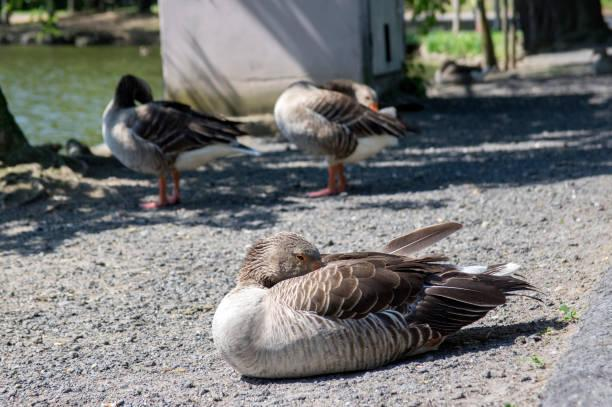Canadian-Goose: (212, 233, 516, 378), (101, 74, 251, 208), (275, 78, 407, 195)
